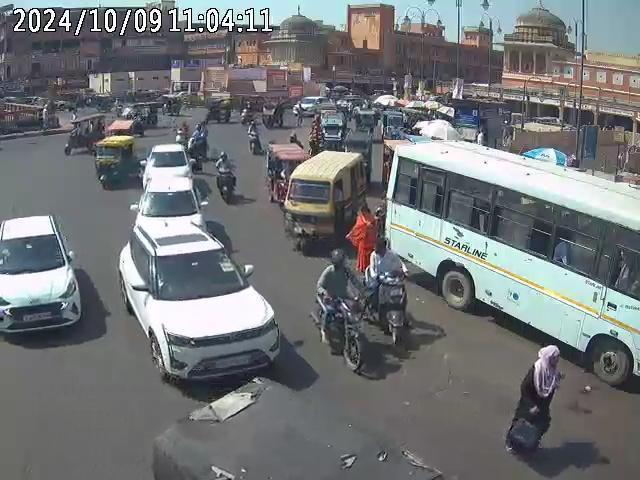auto: (282, 148, 365, 253), (264, 138, 311, 204), (93, 135, 137, 189), (63, 114, 107, 154)
bus: (383, 138, 640, 378)
car: (116, 220, 284, 380), (0, 213, 80, 339), (140, 143, 192, 192)
helmet: (329, 246, 349, 271), (375, 234, 390, 260)
motorbike-rider: (310, 244, 370, 376)
person: (504, 336, 566, 454), (348, 202, 378, 274), (553, 235, 571, 268)
scooty-rider: (368, 232, 410, 348), (216, 150, 236, 202), (246, 124, 261, 152)
